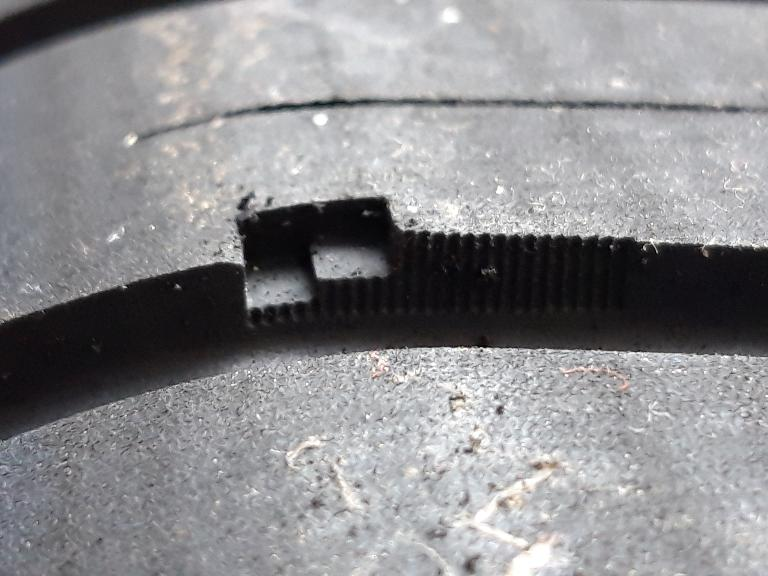temoin:50: (227, 188, 480, 352)
